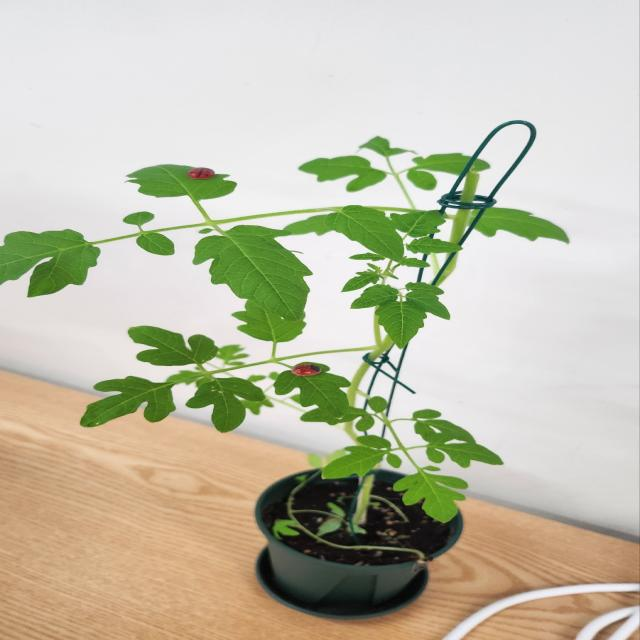bug: (173, 164, 230, 195), (273, 356, 329, 384)
